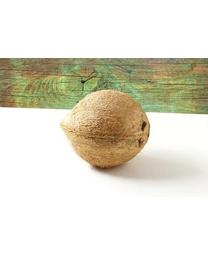coconut: (58, 89, 151, 170)
